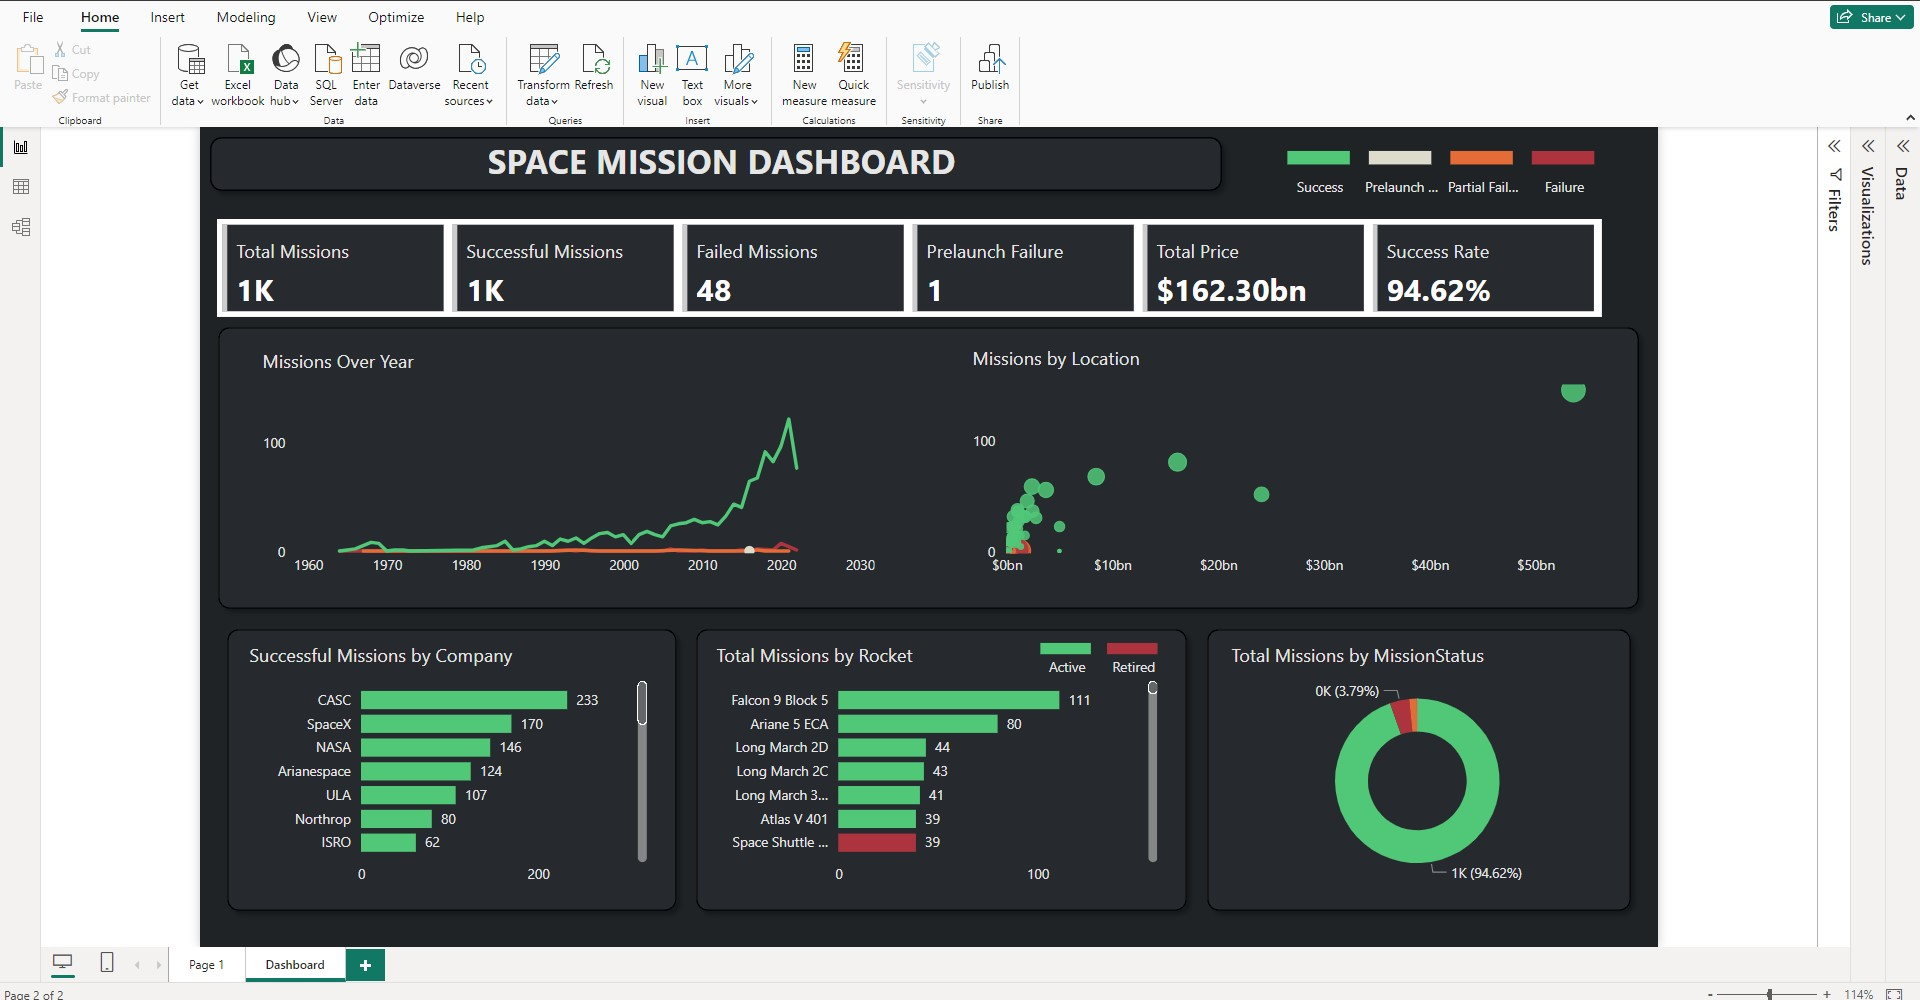

What the dashboard file says about the page in this screenshot:
{"tool":"powerbi","page":{"name":"Page 2","canvas":[1280,720],"ordinal":1},"visuals":[{"type":"shape","box":[6.9,166.9,1265.3,265],"z":0},{"type":"shape","box":[14.7,431.9,412.3,265],"z":1000},{"type":"shape","box":[427,431.9,448.6,265],"z":2000},{"type":"shape","box":[875.6,431.9,389.7,265],"z":3000},{"type":"shape","box":[0,0,1265.3,64.8],"z":4000},{"type":"lineChart","title":"Missions Over Year","fields":{"Category":["Date Table.Year"],"Y":["All Measures.Total Missions"],"Series":["Space Mission.MissionStatus"]},"box":[48.1,190.4,557.5,218.9],"z":5000},{"type":"scatterChart","title":"Missions by Location","fields":{"X":["All Measures.Total Price"],"Y":["All Measures.Total Missions"],"Category":["Space Mission.Location"],"Series":["Space Mission.MissionStatus"],"Size":["All Measures.Successful Missions"]},"box":[663.6,187.5,578.2,221.8],"z":6000},{"type":"barChart","fields":{"Category":["Space Mission.Company"],"Y":["All Measures.Successful Missions"]},"box":[33.4,447.6,369.1,231.7],"z":7000},{"type":"barChart","fields":{"Category":["Space Mission.Rocket"],"Y":["All Measures.Total Missions"]},"box":[443.7,447.6,407.4,231.7],"z":8000},{"type":"donutChart","fields":{"Y":["All Measures.Total Missions"],"Category":["Space Mission.MissionStatus"]},"box":[895.2,447.6,346.5,231.7],"z":9000},{"type":"clusteredColumnChart","fields":{"Category":["Space Mission.MissionStatus"],"Y":["All Measures.Legend"]},"box":[895.7,166.4,350,66.6],"z":10000},{"type":"clusteredColumnChart","fields":{"Category":["Space Mission.RocketStatus"],"Y":["All Measures.Legend"]},"box":[675.3,438.8,230.7,58.9],"z":11000},{"type":"cardVisual","fields":{"Data":["All Measures.Total Missions","All Measures.Successful Missions","All Measures.Failed Missions","All Measures.Prelaunch Failure","All Measures.Total Price","All Measures.Success Rate"]},"box":[14.7,80.5,1216.2,86.4],"z":12000}]}

Visuals, with their boxes on the page's 1280x720 design canvas (x1, y1, x2, y2). These are canvas units, not pixel positions in the 1920x1000 screenshot, which may show the page scaled, cropped or inside an application window:
shape: 7,167,1272,432
shape: 15,432,427,697
shape: 427,432,876,697
shape: 876,432,1265,697
shape: 0,0,1265,65
"Missions Over Year" lineChart: 48,190,606,409
"Missions by Location" scatterChart: 664,188,1242,409
barChart - Space Mission.Company x All Measures.Successful Missions: 33,448,402,679
barChart - Space Mission.Rocket x All Measures.Total Missions: 444,448,851,679
donutChart - All Measures.Total Missions x Space Mission.MissionStatus: 895,448,1242,679
clusteredColumnChart - Space Mission.MissionStatus x All Measures.Legend: 896,166,1246,233
clusteredColumnChart - Space Mission.RocketStatus x All Measures.Legend: 675,439,906,498
cardVisual - All Measures.Total Missions x All Measures.Successful Missions: 15,80,1231,167
